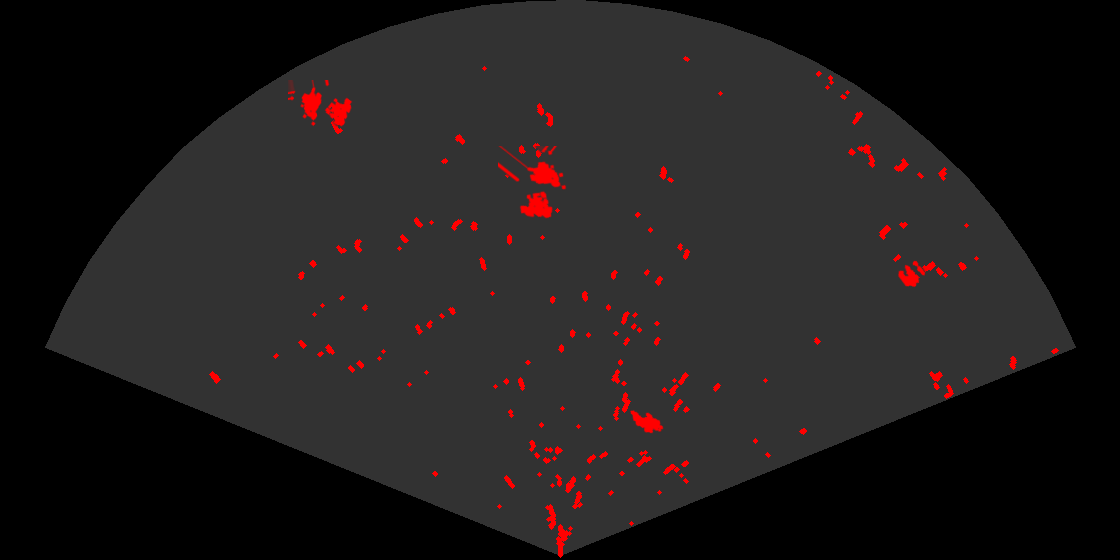AUV: (628, 408, 665, 435)
ball: (897, 259, 927, 289)
cage: (498, 146, 568, 220), (288, 80, 354, 128)
